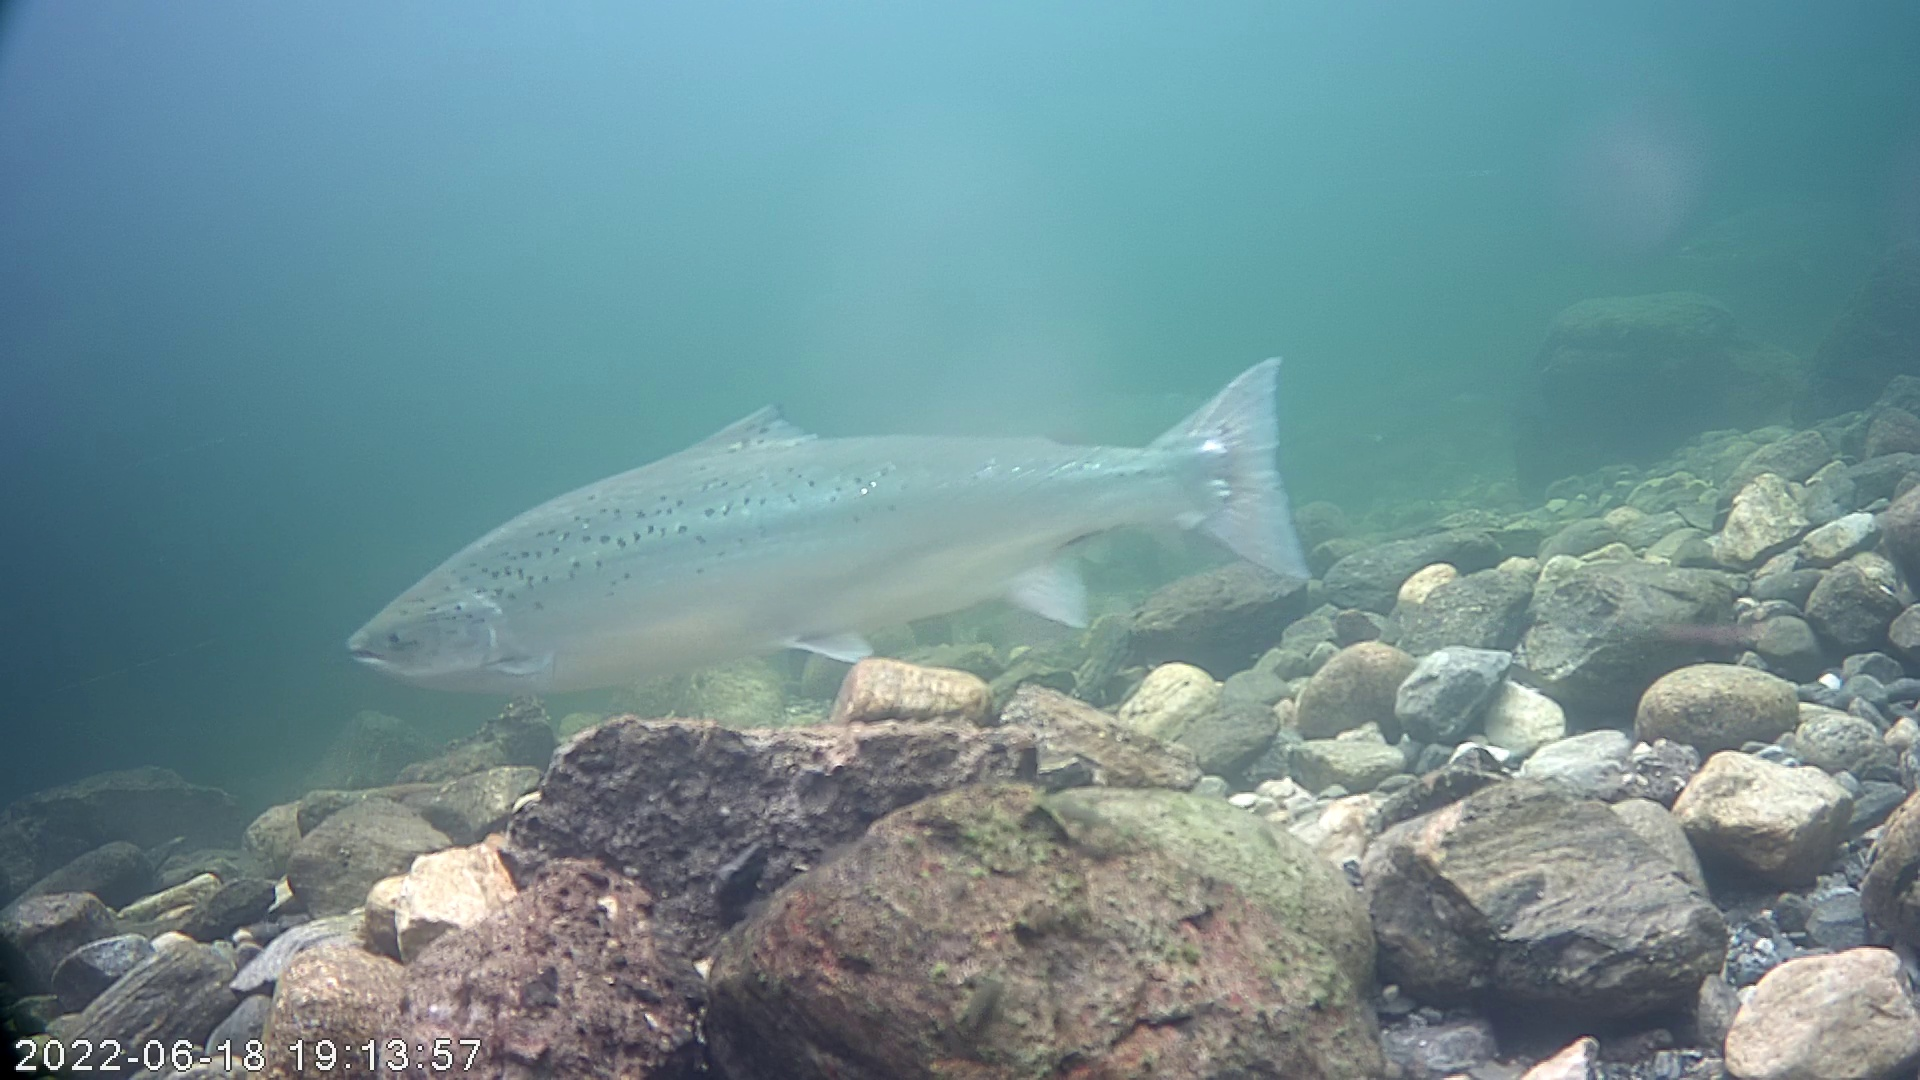salmon: (342, 355, 1312, 694)
